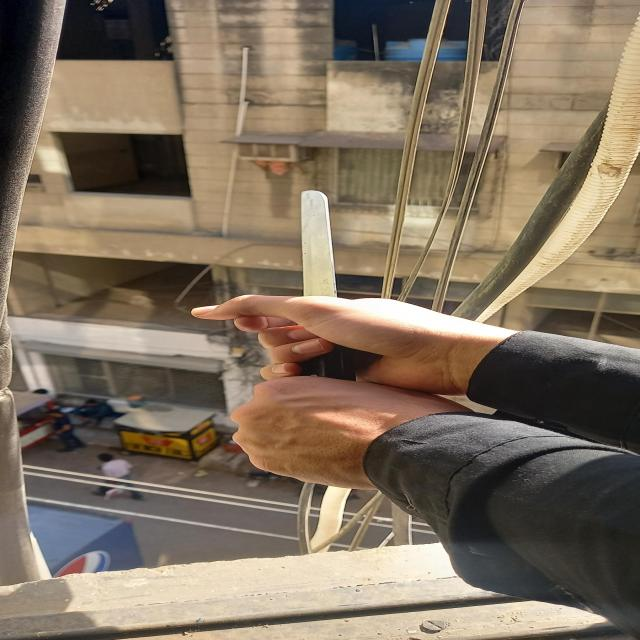Knife: (303, 190, 349, 386)
Person: (192, 294, 640, 639)
